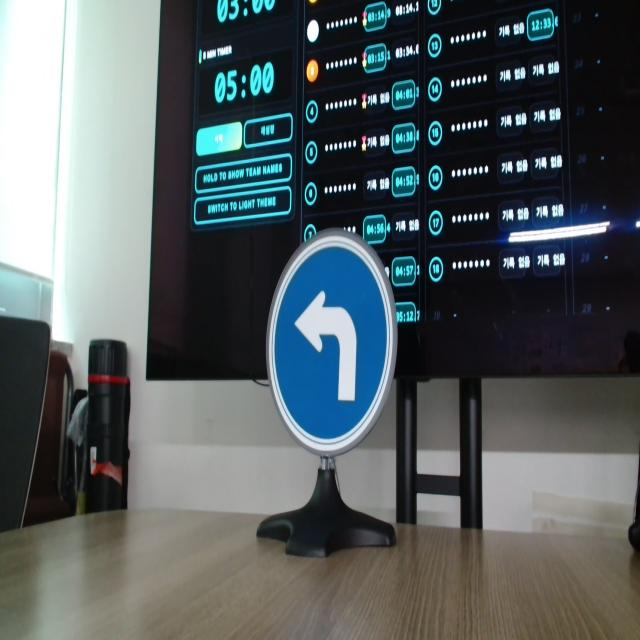left_direction: (264, 229, 398, 457)
